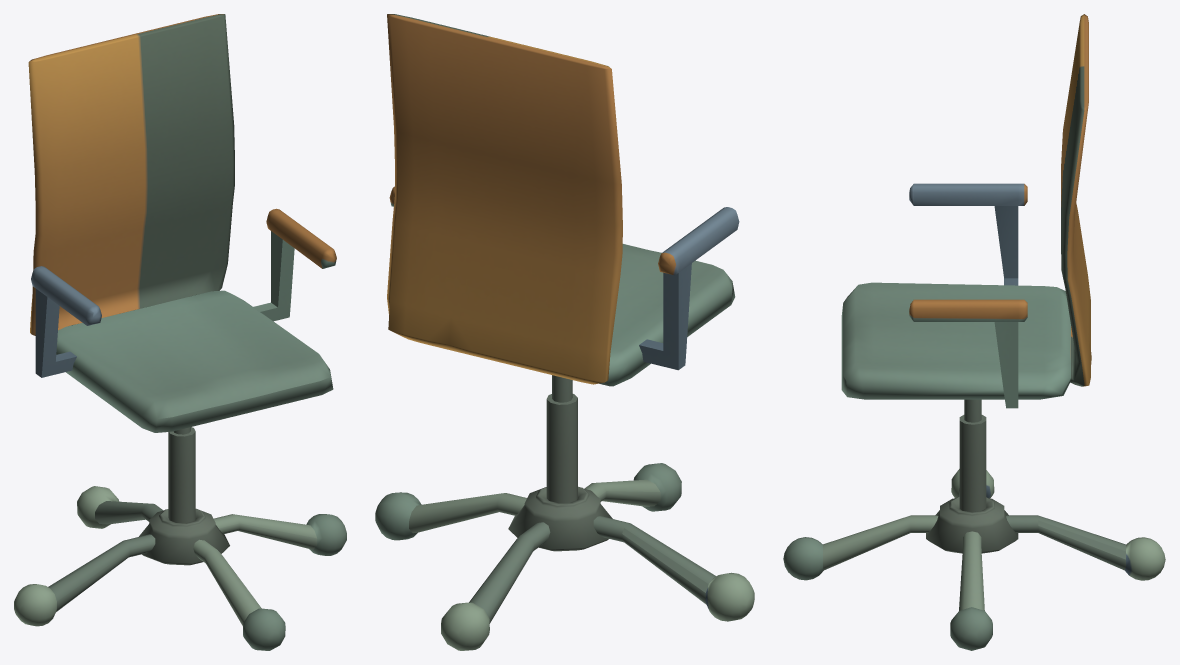
The model's file is officechair_purple.fbx.
The picture shows the model from 3 angles, left to right: view 1: azimuth 30°, elevation 25°; view 2: azimuth 150°, elevation 25°; view 3: azimuth 270°, elevation 25°; orthographic projection. The views are drawn at different scales.
Visible parts, largest first — view 1: pCube1, pCube2, pSphere6, pSphere5, group1pTorus1, pCylinder9; view 2: pCube1, pSphere6, pSphere5, pCube2, group1pTorus1, pCylinder9; view 3: pCube1, pCube2, pSphere5, pSphere6, group1pTorus1, pCylinder9.
Boxes of the visible parts, x1,y1,x2,y2 form: pCube1: [28, 14, 333, 432]; pCube2: [31, 208, 336, 377]; pSphere6: [14, 514, 346, 626]; pSphere5: [77, 486, 285, 650]; group1pTorus1: [139, 508, 229, 565]; pCylinder9: [168, 427, 195, 523]; pCube1: [387, 14, 735, 386]; pSphere6: [375, 492, 754, 621]; pSphere5: [441, 463, 681, 650]; pCube2: [389, 186, 739, 370]; group1pTorus1: [508, 486, 612, 551]; pCylinder9: [546, 375, 577, 503]; pCube1: [841, 14, 1091, 399]; pCube2: [909, 183, 1027, 408]; pSphere5: [783, 515, 1165, 580]; pSphere6: [950, 469, 994, 650]; group1pTorus1: [926, 496, 1018, 553]; pCylinder9: [959, 399, 986, 512].
Size of the model in its own units: 25.13 by 37.53 by 25.13.
